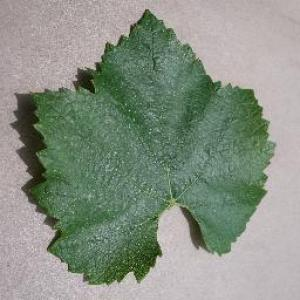Folha: (24, 8, 276, 286)
